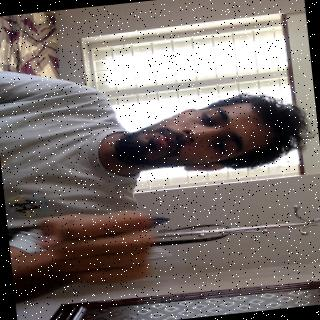Yes: (20, 192, 182, 314)
